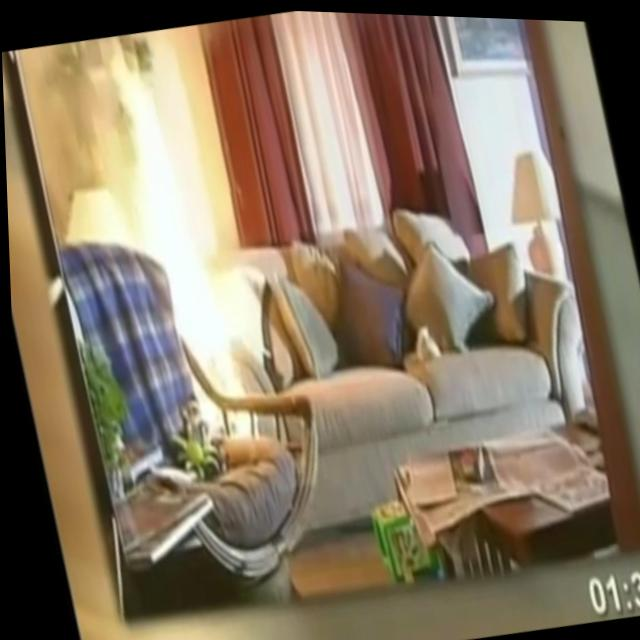fire: (78, 22, 261, 446)
